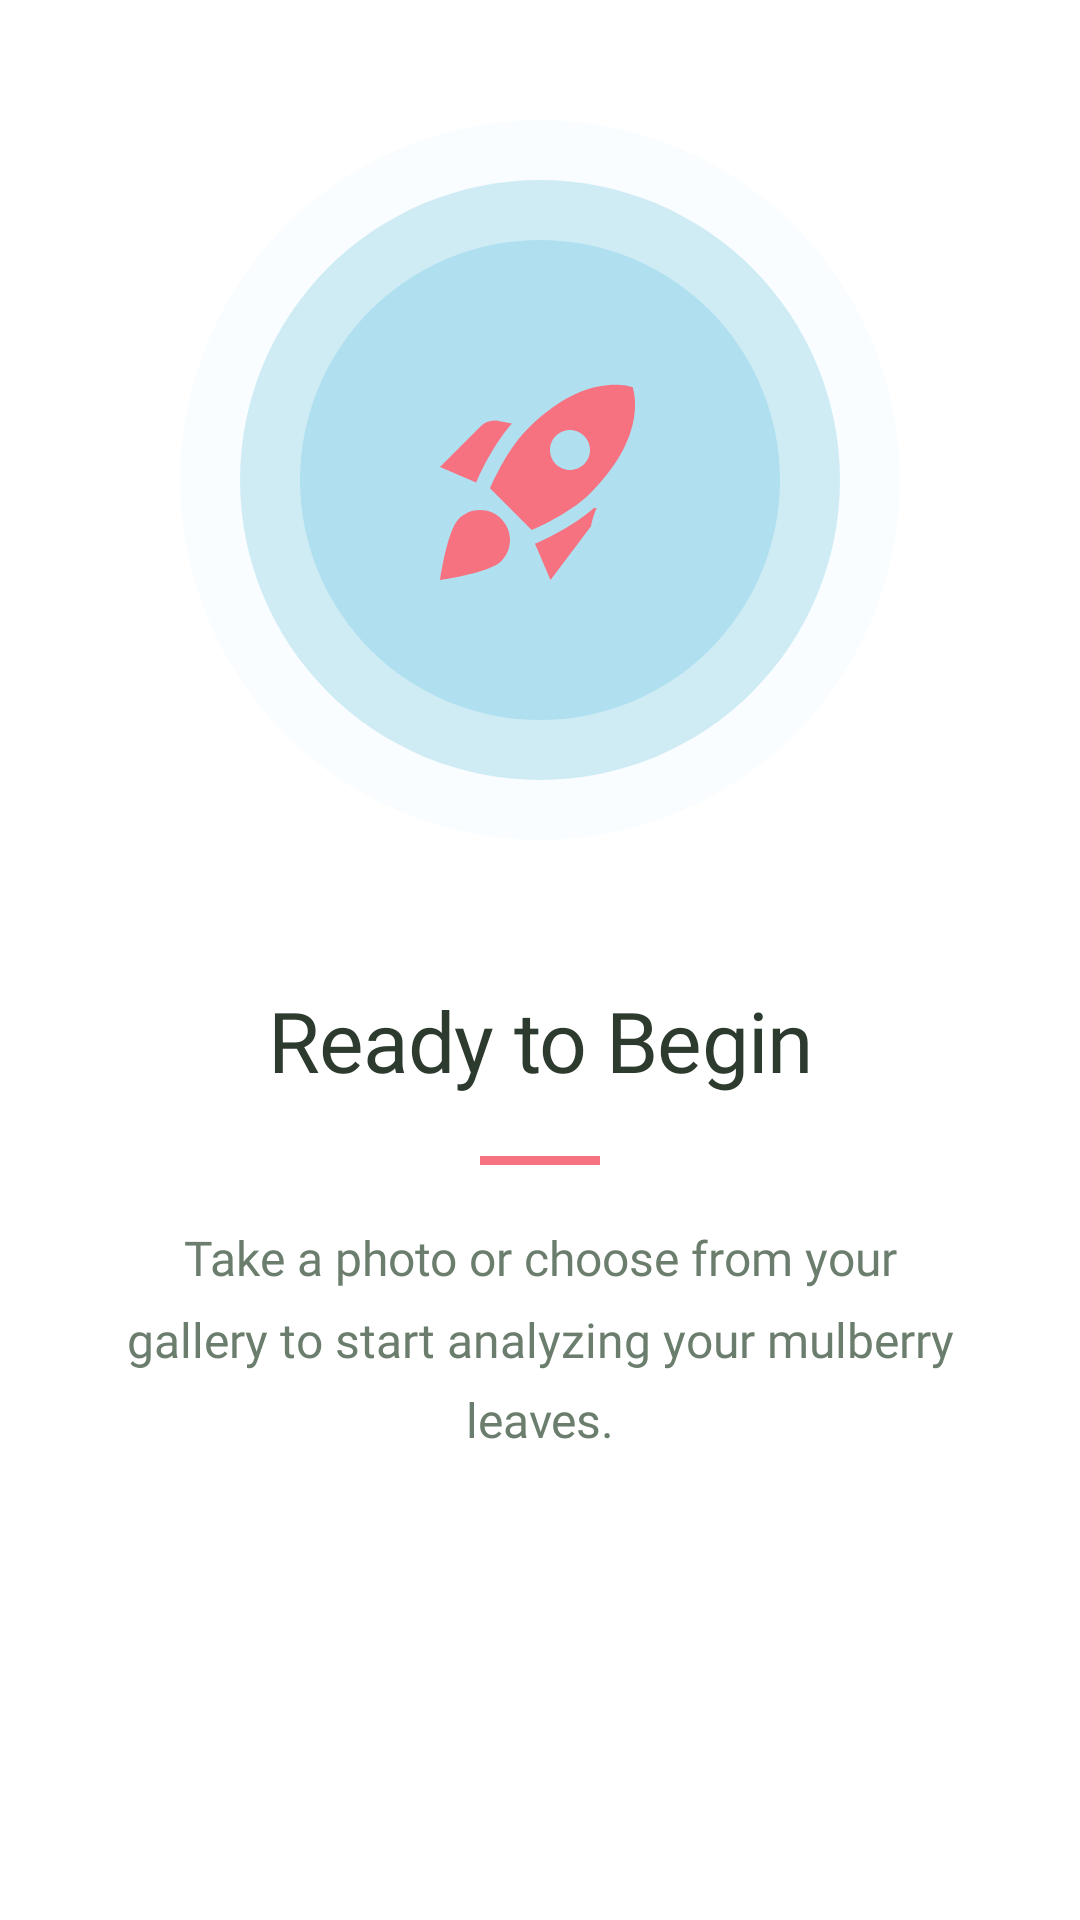

Icon bounding boxes for this 1080w x 1920h phone screenshot, format bbox=[x1, y1, x2, y2]:
rocket launch: bbox=[440, 384, 635, 580]
